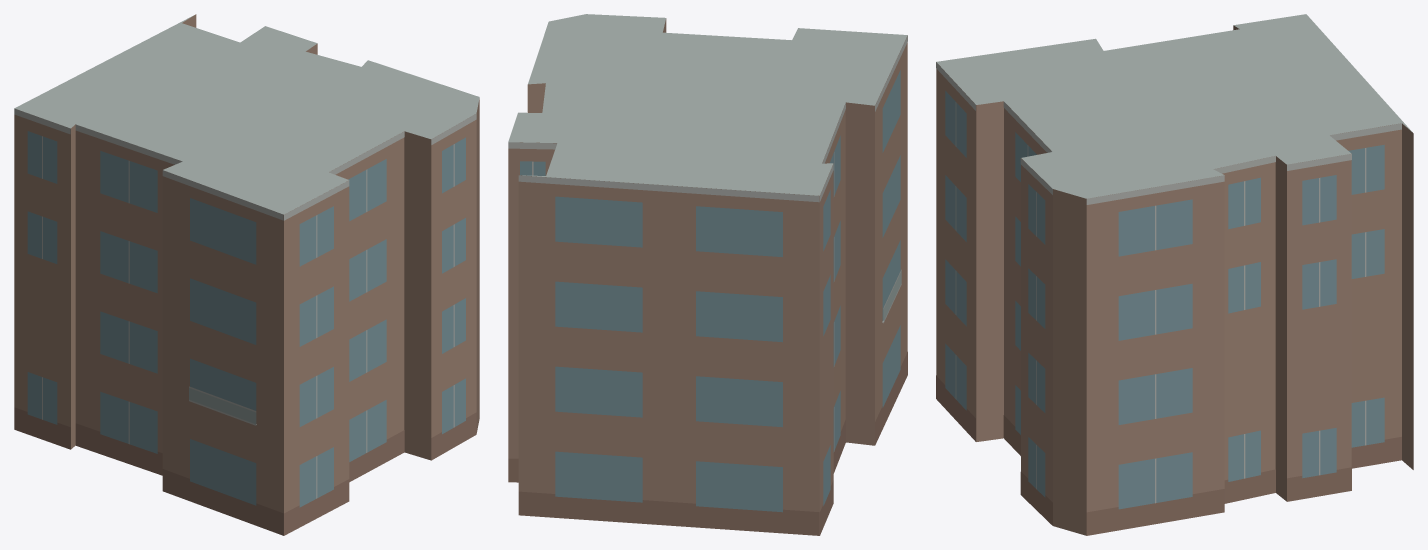
Rendered from survey-upis-32932430.glb.
3 renders of one model, left to right at view 1: azimuth 30°, elevation 25°; view 2: azimuth 150°, elevation 25°; view 3: azimuth 270°, elevation 25°, orthographic. The views are drawn at different scales.
Parts seen in each view (by area): view 1: survey-upis-32932430.tmp; view 2: survey-upis-32932430.tmp; view 3: survey-upis-32932430.tmp.
Boxes of the visible parts, left/top/right/bottom form: survey-upis-32932430.tmp: left=14, top=14, right=479, bottom=535; survey-upis-32932430.tmp: left=508, top=14, right=907, bottom=535; survey-upis-32932430.tmp: left=936, top=14, right=1413, bottom=535.
Size of the model in its own units: 15.17 by 12.9 by 16.57.
